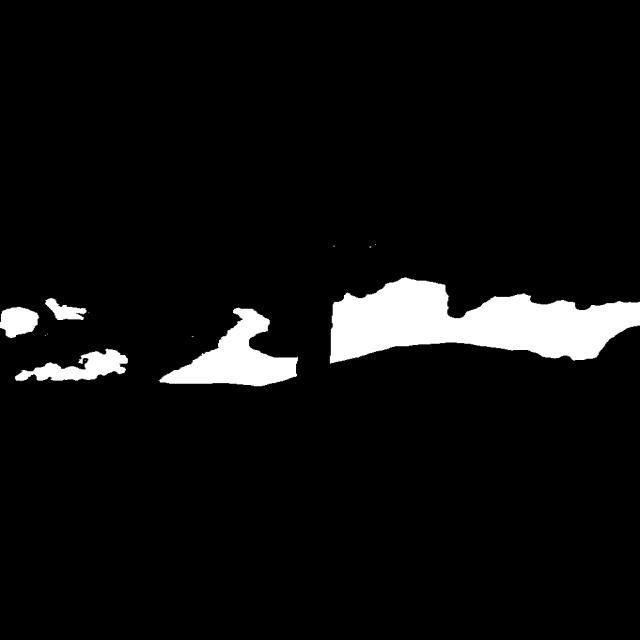fire: (2, 274, 640, 412)
